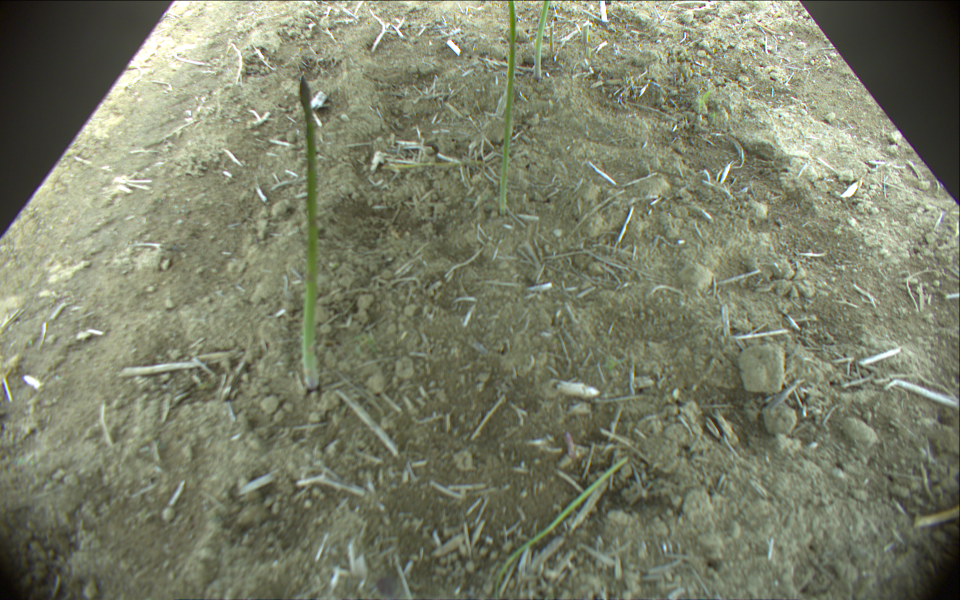aspa: (493, 457, 627, 600), (297, 76, 320, 389), (499, 1, 517, 215), (534, 1, 549, 83), (582, 21, 590, 52), (550, 21, 557, 55)
